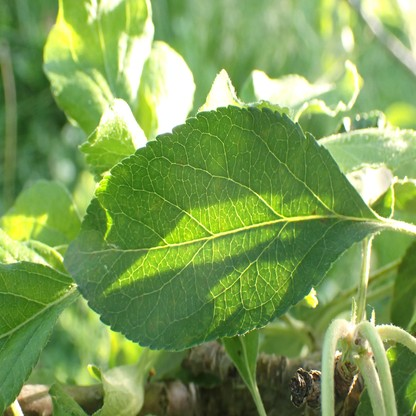scab: (176, 328, 201, 349), (151, 200, 161, 213), (148, 316, 156, 332), (261, 129, 272, 138), (176, 156, 183, 165), (89, 253, 94, 263), (215, 182, 221, 190), (168, 174, 172, 185), (94, 268, 99, 274), (138, 296, 142, 301), (239, 141, 241, 148), (278, 128, 281, 132)
